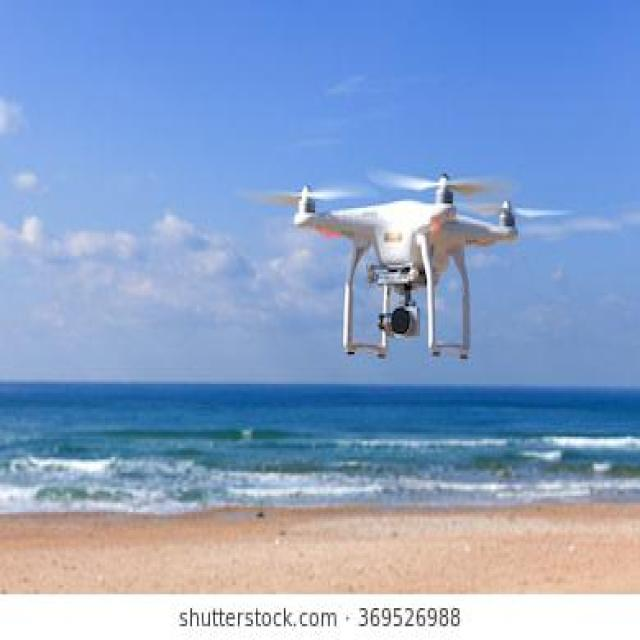drone: (260, 90, 544, 402)
